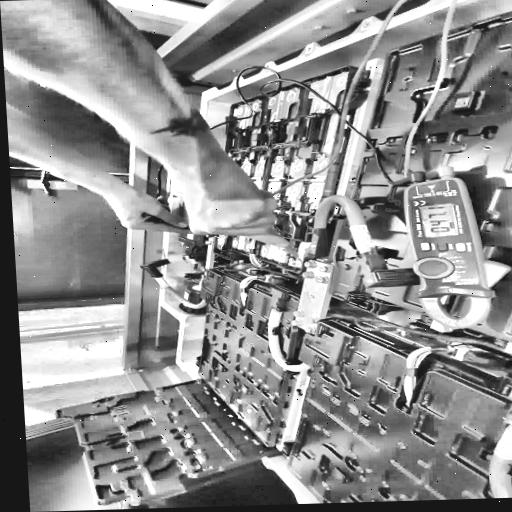high_volt_cable: (300, 191, 385, 263), (261, 283, 314, 373), (479, 384, 512, 499), (142, 258, 206, 311)
low_volt_cable: (330, 310, 512, 361), (216, 261, 303, 282)
nut: (314, 275, 329, 283), (318, 264, 331, 272), (301, 270, 314, 278), (304, 325, 317, 333), (307, 315, 319, 323), (293, 309, 305, 317), (290, 318, 303, 325), (303, 260, 315, 267), (203, 239, 212, 244), (201, 267, 207, 271), (201, 273, 207, 277)
